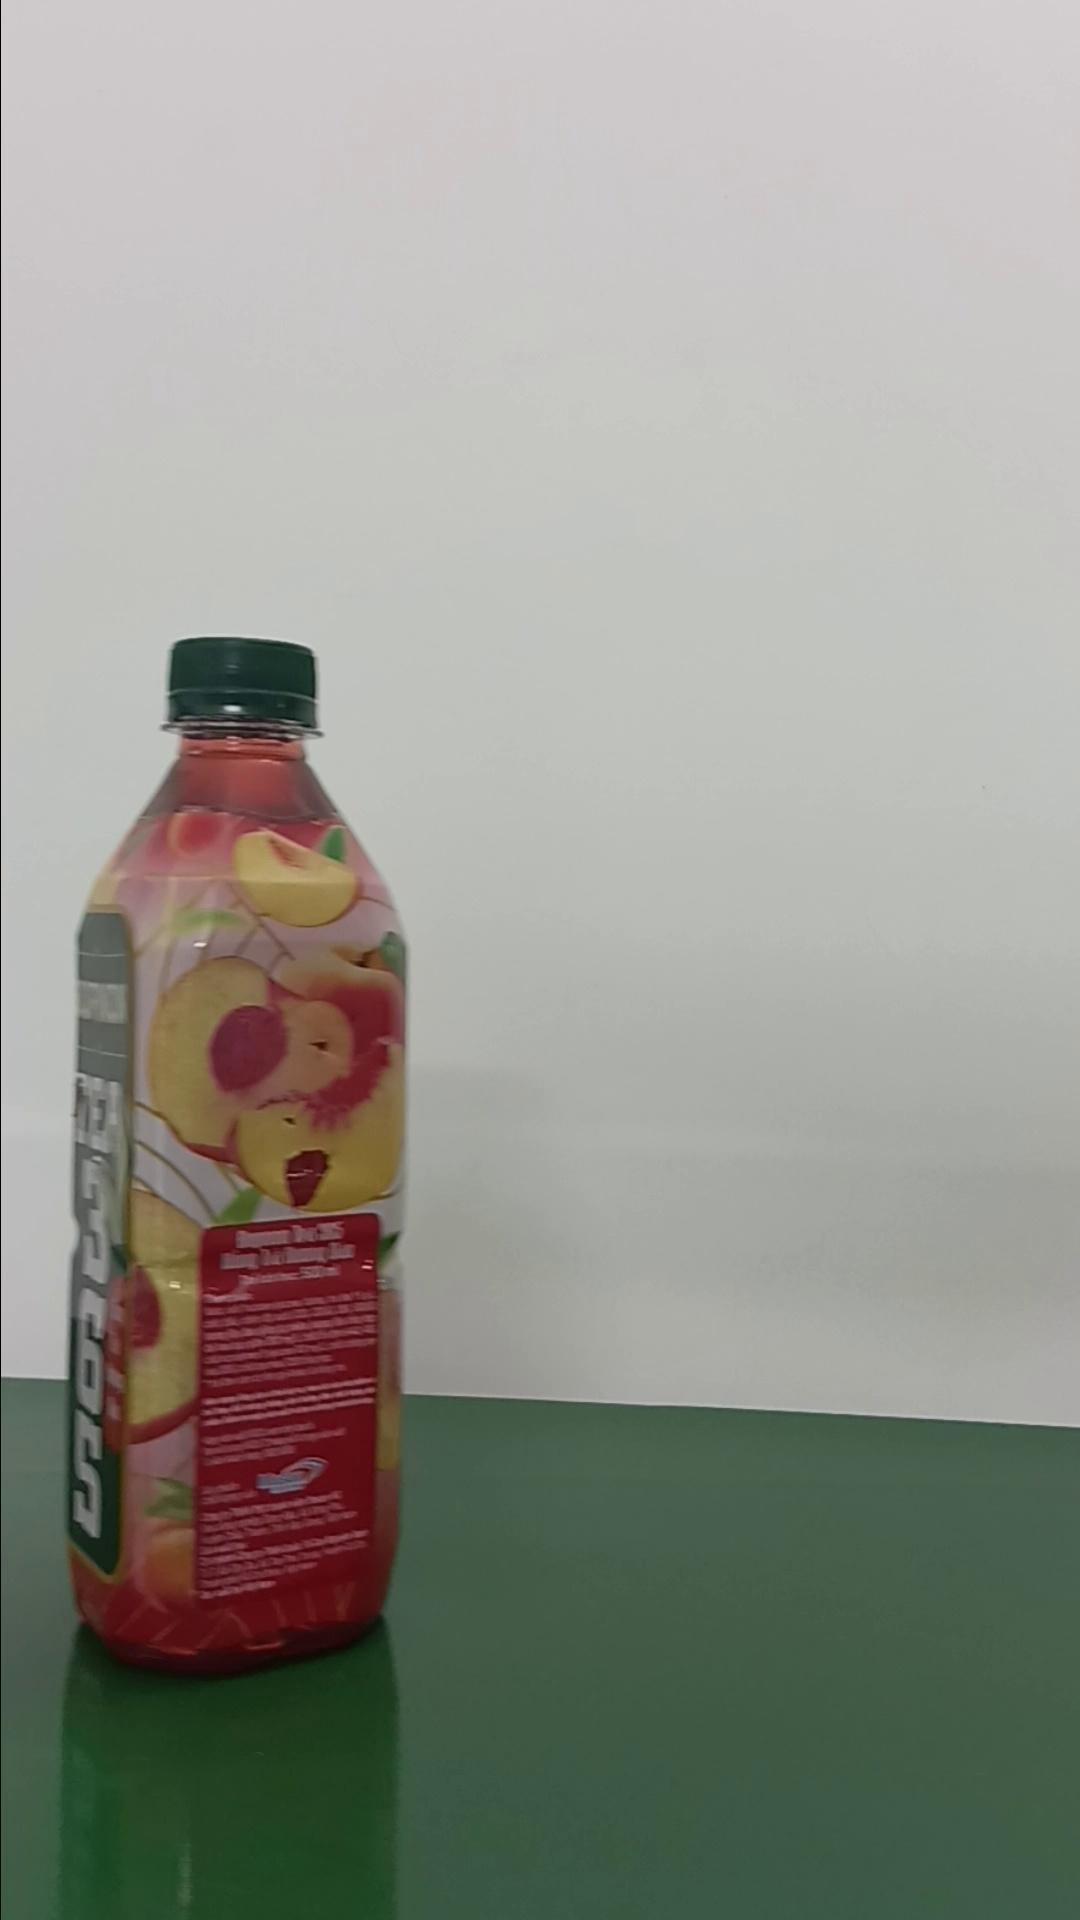loi rach va lap chai: (70, 637, 411, 1683)
